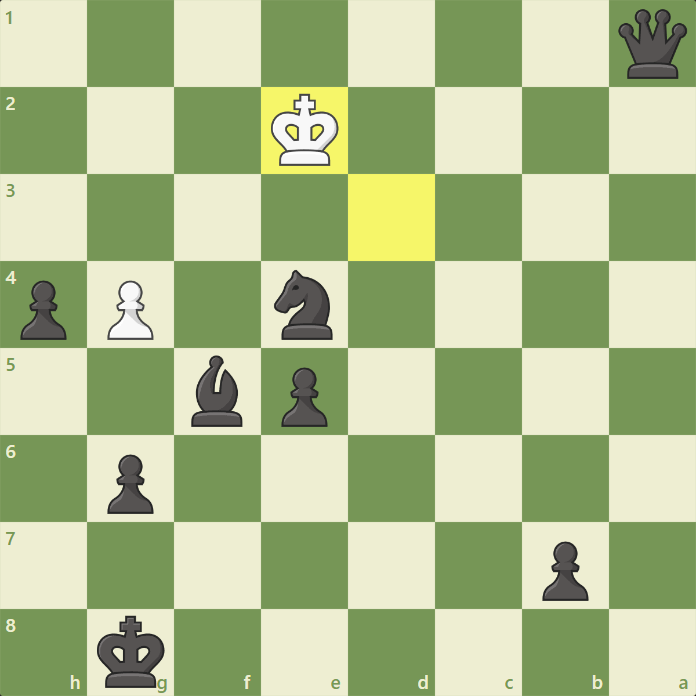K: (269, 92, 341, 168)
P: (104, 279, 156, 344)
b: (188, 354, 245, 430)
k: (95, 614, 167, 692)
n: (272, 268, 337, 343)
p: (539, 540, 592, 604), (102, 452, 155, 516), (277, 366, 330, 430), (16, 277, 69, 341)
q: (616, 7, 691, 81)
